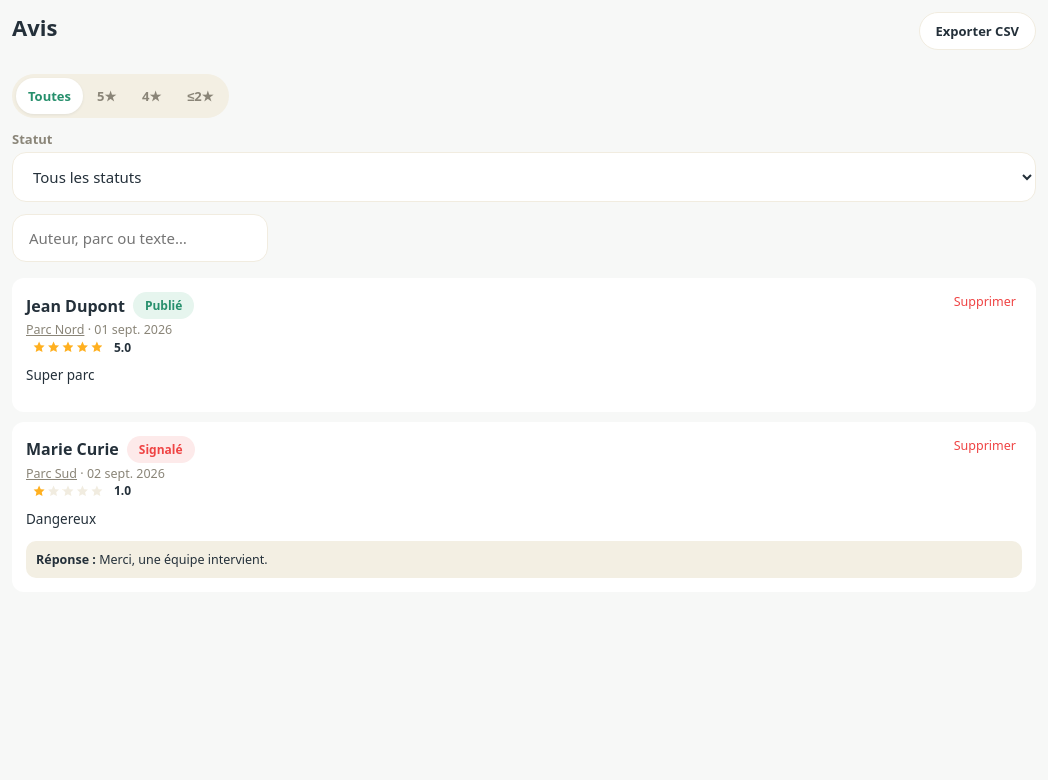
Test: Reviews — modération des avis (Admin-UI-6E) › le filtre statut restreint la liste au statut choisi
Expected: the text "Jean Dupont" is shown, [26, 294, 125, 316]
Select "Signalé" in the dropdown labelled "Statut". click: (524,177)
box: [12, 152, 1036, 202]
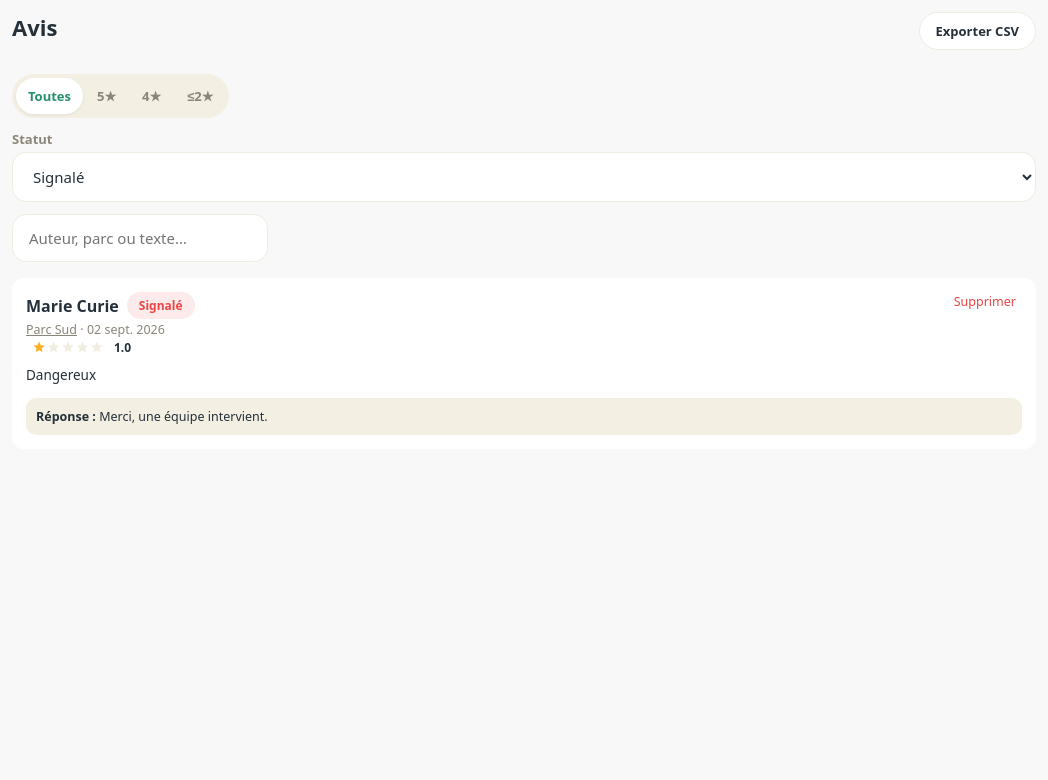
Expected: the text "Marie Curie" is shown, [26, 294, 119, 316]
Now the text "Jean Dupont" is gone
